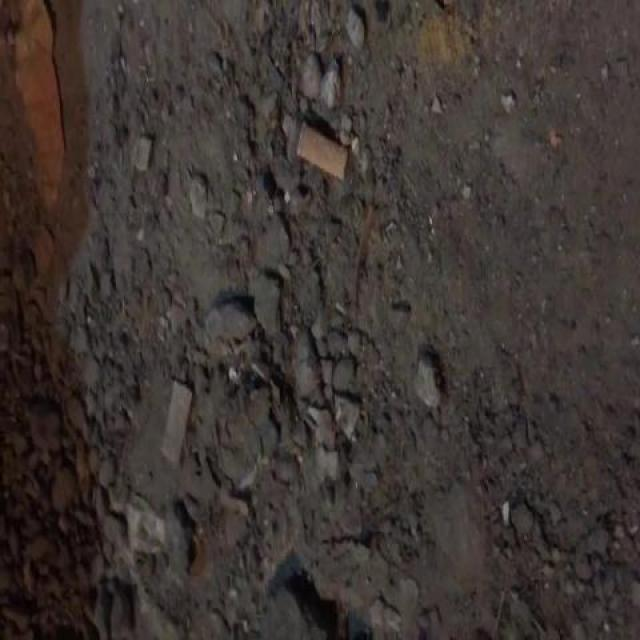non-organic waste: (293, 115, 354, 183)
